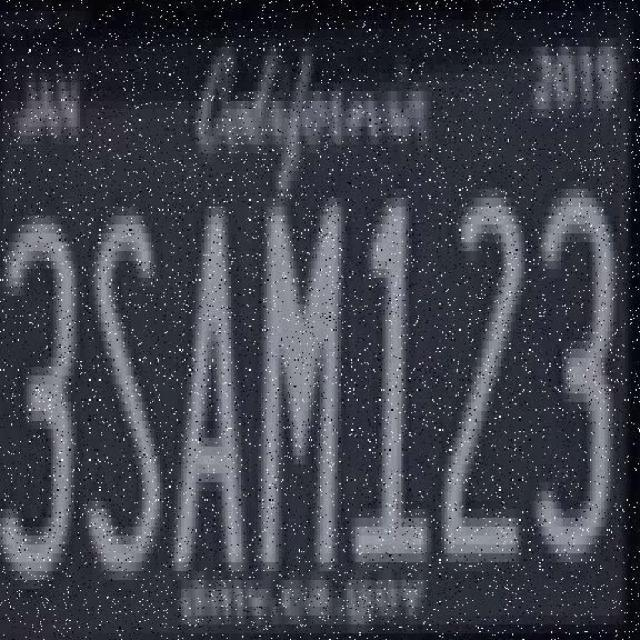license-plate: (0, 5, 640, 630)
